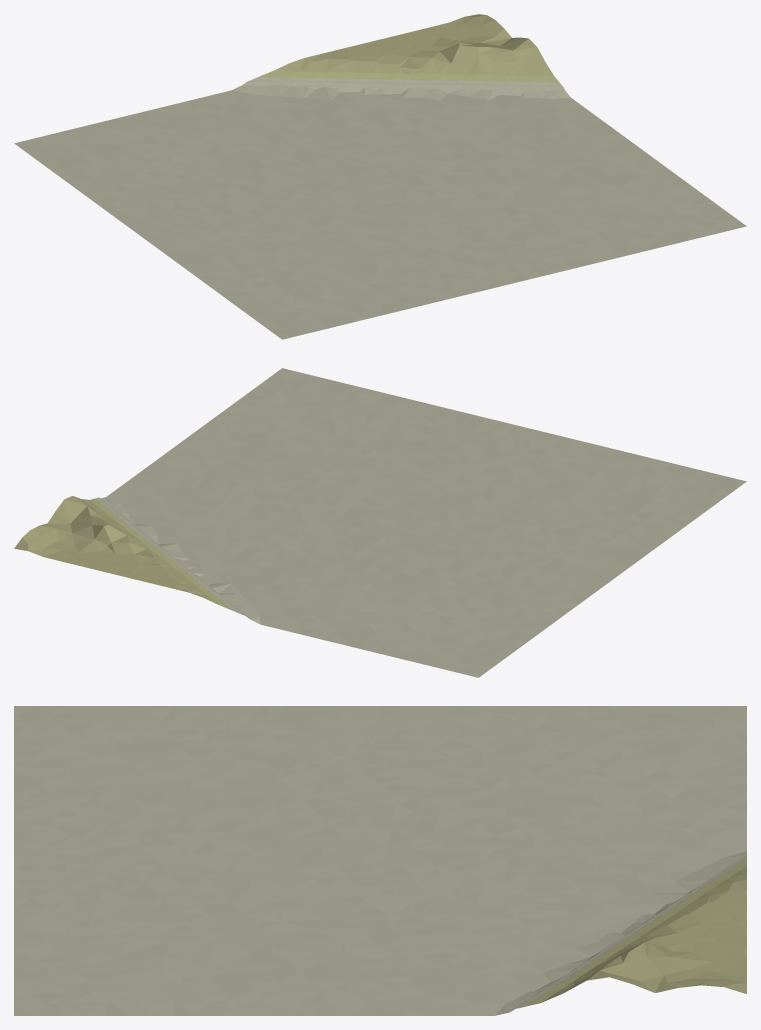
Rendered from Ground_-2_-1.glb.
3 views of the same model, one above another, from view 1: azimuth 30°, elevation 25°; view 2: azimuth 150°, elevation 25°; view 3: azimuth 270°, elevation 25° (orthographic). The views are drawn at different scales.
Visible parts, largest first — view 1: Ground_-2_-1; view 2: Ground_-2_-1; view 3: Ground_-2_-1.
Boxes of the visible parts, bbox=[...] form: Ground_-2_-1: bbox=[14, 14, 746, 339]; Ground_-2_-1: bbox=[14, 368, 746, 677]; Ground_-2_-1: bbox=[14, 706, 746, 1015].
Bounding box in the file's own units: 768 × 44.64 × 768.
